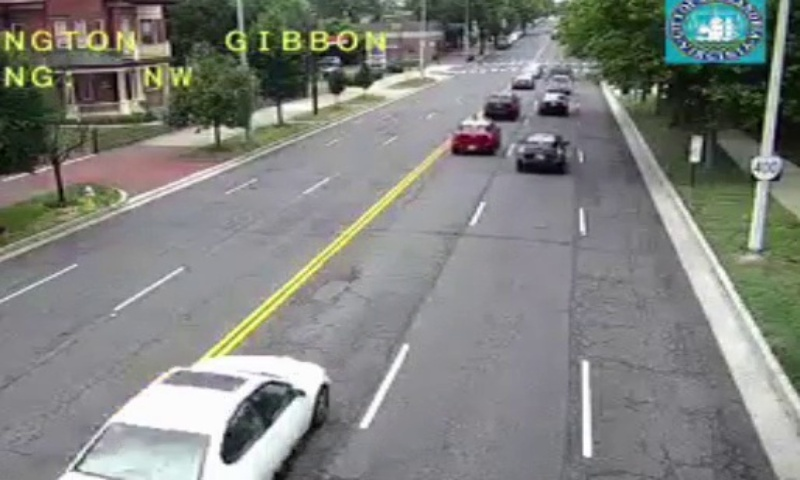car: (59, 353, 328, 480), (515, 134, 564, 168), (451, 122, 499, 152), (482, 93, 519, 117), (538, 93, 566, 113)
